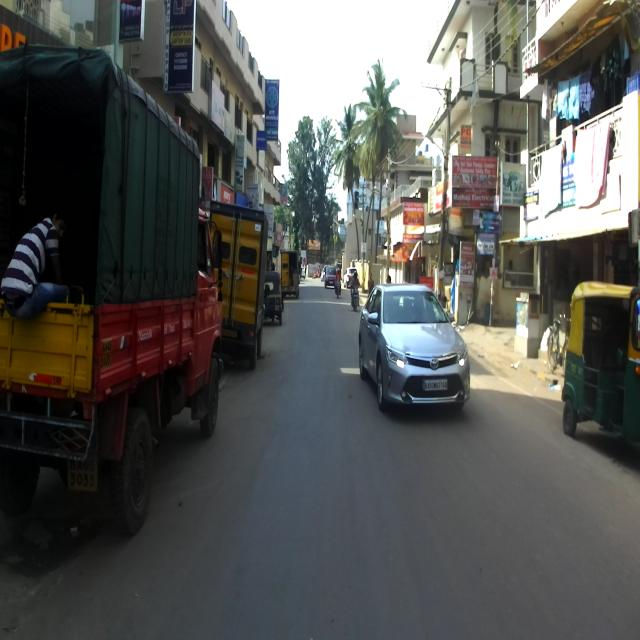auto ahead at: (565, 277, 640, 457)
car ahead at: (358, 281, 471, 424)
truck ahead at: (0, 43, 224, 532), (218, 194, 263, 372)
